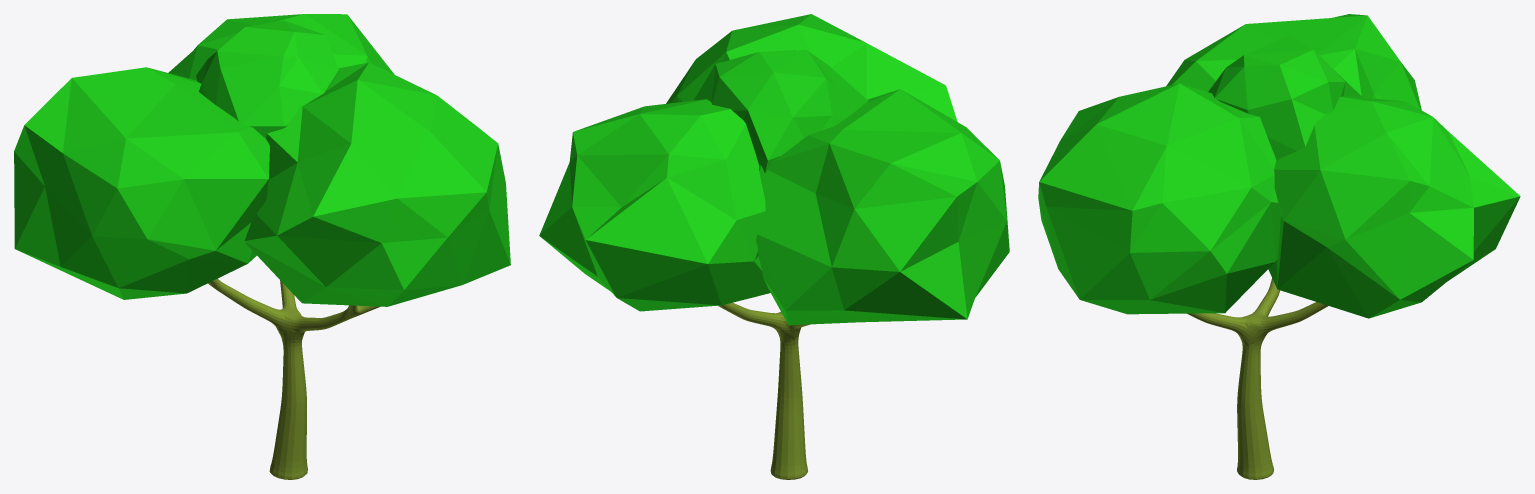
File: Tree_Low_Leaf.gltf
3 views of the same model, side by side, from view 1: azimuth 30°, elevation 25°; view 2: azimuth 150°, elevation 25°; view 3: azimuth 270°, elevation 25° (orthographic). The views are drawn at different scales.
Visible parts, largest first — view 1: Tree_Low_Leaf.obj; view 2: Tree_Low_Leaf.obj; view 3: Tree_Low_Leaf.obj.
Boxes of the visible parts, x1=… form: Tree_Low_Leaf.obj: x1=14, y1=14, x2=510, y2=479; Tree_Low_Leaf.obj: x1=539, y1=14, x2=1009, y2=479; Tree_Low_Leaf.obj: x1=1038, y1=14, x2=1520, y2=479.
Size of the model in its own units: 13.77 by 14.63 by 15.32.
1 material, 1 textured.
